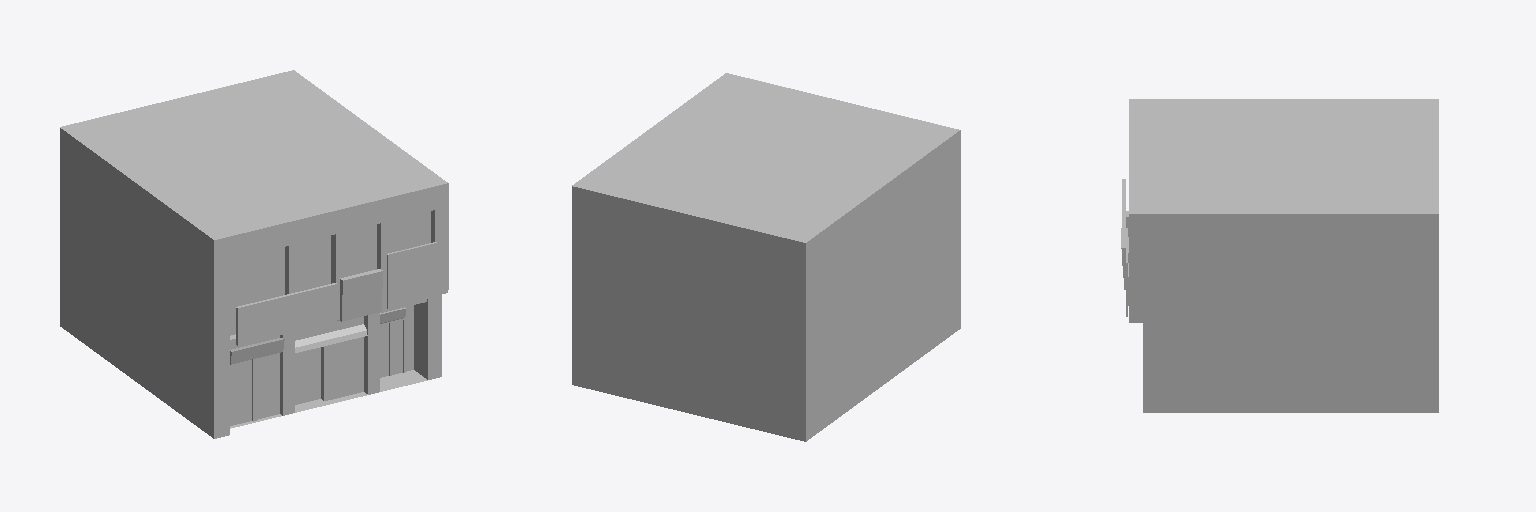
The model's file is Building 4.obj.
The picture shows the model from 3 angles: view 1: azimuth 30°, elevation 25°; view 2: azimuth 150°, elevation 25°; view 3: azimuth 270°, elevation 25°; orthographic projection.
Parts seen in each view (by area): view 1: Cube_(43); view 2: Cube_(43); view 3: Cube_(43).
Part boxes in pixels (x1,y1,x2,y2): Cube_(43): (60, 70, 448, 438); Cube_(43): (572, 73, 960, 441); Cube_(43): (1121, 99, 1438, 412).
Bounding box in the file's own units: 14.56 × 11.81 × 17.07.